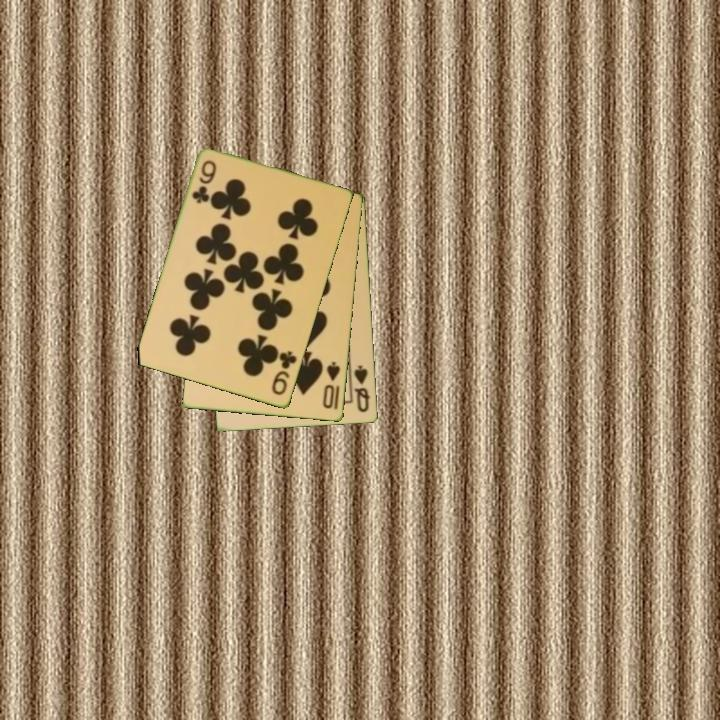10s: (319, 358, 343, 413)
9c: (268, 347, 300, 398), (189, 157, 220, 207)
Qs: (351, 362, 373, 416)
